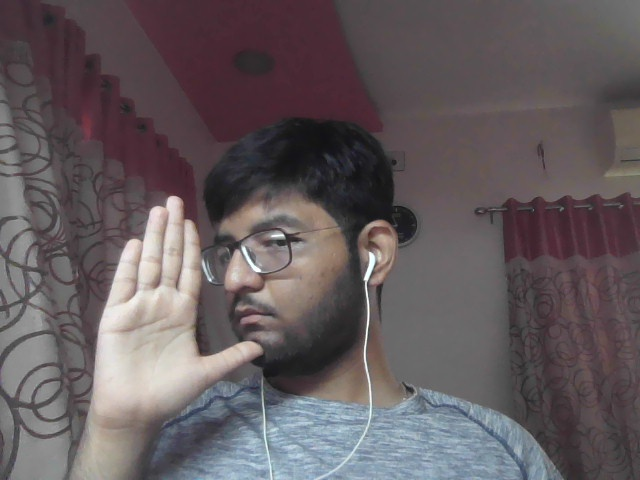માતા: (81, 186, 286, 435)
